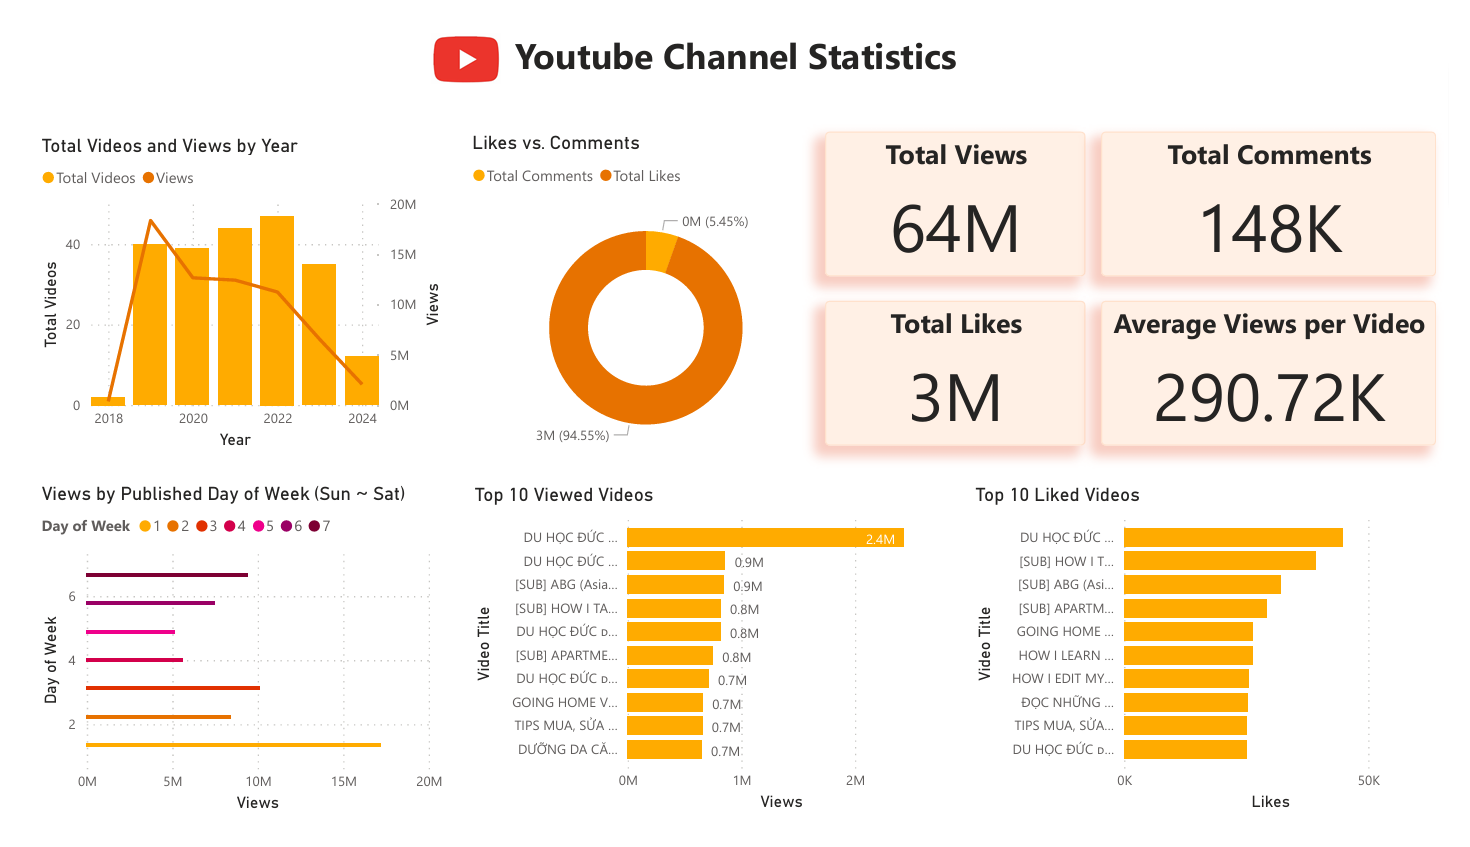

Layout of this report page (visuals, bound fields, positions):
{"tool":"powerbi","page":{"name":"Dashboard","canvas":[1280,720],"ordinal":0},"visuals":[{"type":"textbox","box":[0,0,1280,81.4],"z":0},{"type":"lineStackedColumnComboChart","title":"Total Videos and Views by Year","fields":{"Category":["youtube_video_stats.publishedAt.Variation.Date Hierarchy.Year"],"Y":["youtube_video_stats.Count of Video Title"],"Y2":["Sum(youtube_video_stats.views)"]},"box":[7.5,95,373.8,291.2],"z":1000},{"type":"card","title":"Total Views","fields":{"Values":["Sum(youtube_video_stats.views)"]},"box":[720,96.2,233.8,130],"z":2000},{"type":"card","title":"Total Likes","fields":{"Values":["Sum(youtube_video_stats.likes)"]},"box":[720,247.5,233.8,130],"z":3000},{"type":"card","title":"Total Comments","fields":{"Values":["Sum(youtube_video_stats.comments)"]},"box":[967.5,96.2,301.2,130],"z":4000},{"type":"card","title":"Average Views per Video","fields":{"Values":["youtube_video_stats.Avg of Views per Video"]},"box":[967.5,247.5,301.2,130],"z":5000},{"type":"clusteredBarChart","title":"Views by Published Day of Week (Sun ~ Sat)","fields":{"Category":["youtube_video_stats.Day of Week"],"Y":["Sum(youtube_video_stats.views)"],"Series":["youtube_video_stats.Day of Week"]},"box":[7.8,408.2,373.8,303.8],"z":6000},{"type":"clusteredBarChart","title":"Top 10 Viewed Videos","fields":{"Category":["youtube_video_stats.title"],"Y":["Sum(youtube_video_stats.views)"]},"box":[396.5,409.5,437.5,302.5],"z":7000},{"type":"donutChart","title":"Likes vs. Comments","fields":{"Y":["Sum(youtube_video_stats.comments)","Sum(youtube_video_stats.likes)"]},"box":[397.5,96.2,322.5,302.5],"z":8000},{"type":"clusteredBarChart","title":"Top 10 Liked Videos","fields":{"Category":["youtube_video_stats.title"],"Y":["Sum(youtube_video_stats.likes)"]},"box":[846.5,409.5,421.2,302.5],"z":9000},{"type":"image","box":[361.4,0,71.4,61.4],"z":9001}]}

Visuals, with their boxes in screenshot pixels (x1, y1, x2, y2), scaled from the page's 1280x720 canvas onto the 1470x847 screenshot:
textbox: bbox=[0, 0, 1469, 96]
"Total Videos and Views by Year" lineStackedColumnComboChart: bbox=[9, 112, 438, 454]
"Total Views" card: bbox=[827, 113, 1095, 266]
"Total Likes" card: bbox=[827, 291, 1095, 444]
"Total Comments" card: bbox=[1111, 113, 1457, 266]
"Average Views per Video" card: bbox=[1111, 291, 1457, 444]
"Views by Published Day of Week (Sun ~ Sat)" clusteredBarChart: bbox=[9, 480, 438, 838]
"Top 10 Viewed Videos" clusteredBarChart: bbox=[455, 482, 958, 838]
"Likes vs. Comments" donutChart: bbox=[457, 113, 827, 469]
"Top 10 Liked Videos" clusteredBarChart: bbox=[972, 482, 1456, 838]
image: bbox=[415, 0, 497, 72]
